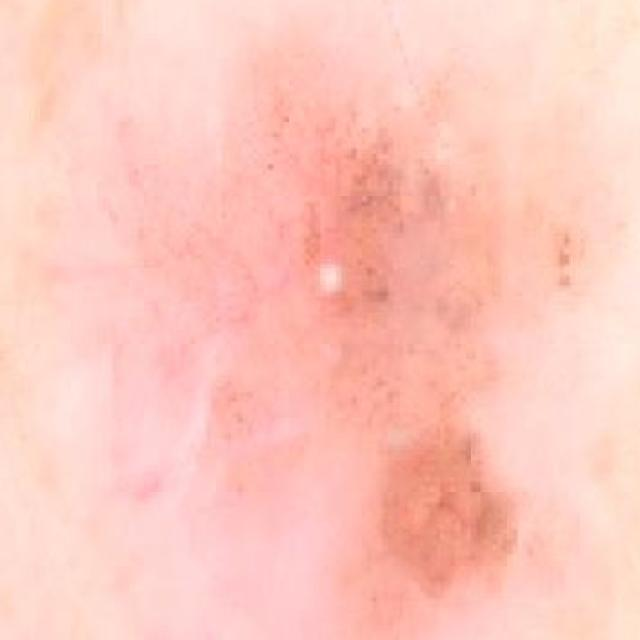BCC: (60, 53, 640, 640)
